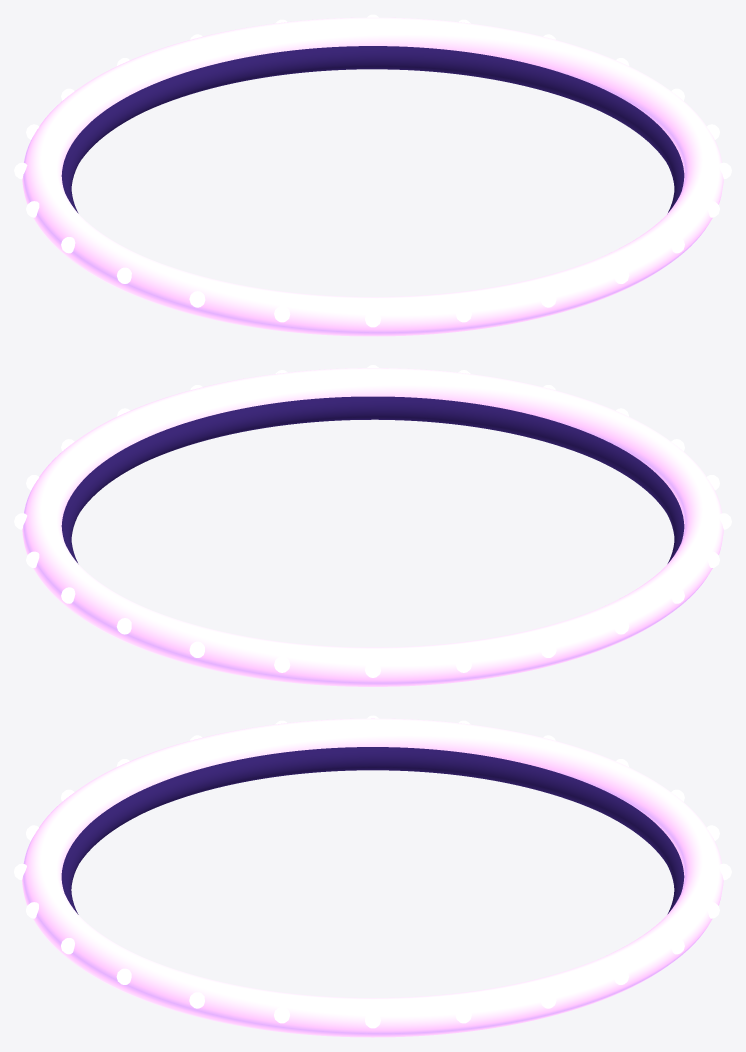
The model's file is hole_rim.glb.
The picture shows the model from 3 angles, top to bottom: view 1: azimuth 30°, elevation 25°; view 2: azimuth 150°, elevation 25°; view 3: azimuth 270°, elevation 25°; orthographic projection.
Parts seen in each view (by area): view 1: hole_rim; view 2: hole_rim; view 3: hole_rim.
Part boxes in pixels (box(x1,y1,x2,y2)): hole_rim: box(14, 14, 731, 336); hole_rim: box(14, 365, 731, 686); hole_rim: box(14, 715, 731, 1037).
Bounding box in the file's own units: 2.17 × 0.1396 × 2.17.
1 material, 1 textured.
